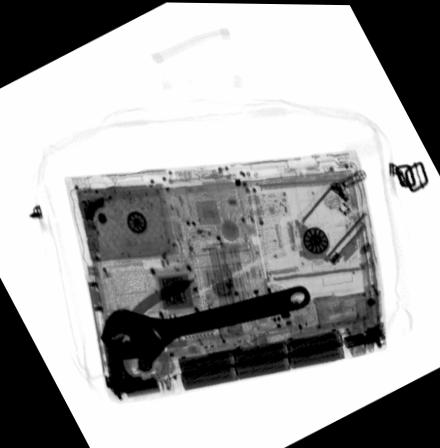Wrench: (99, 282, 310, 372)
